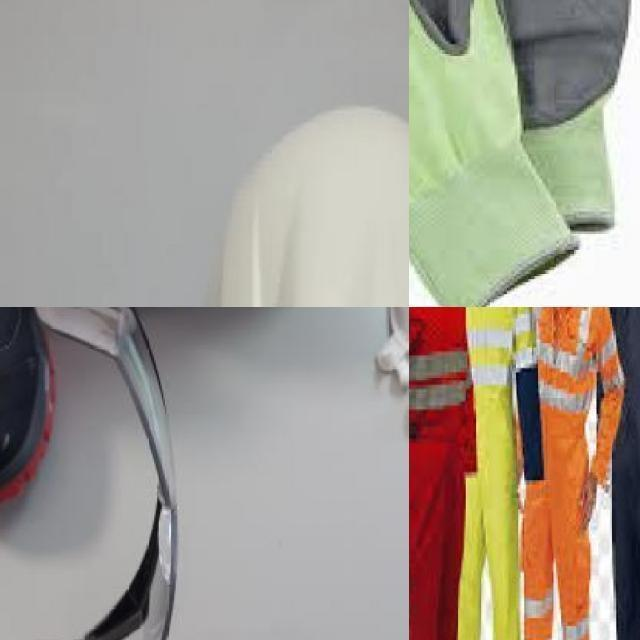apron: (409, 0, 640, 240), (409, 0, 519, 307)
